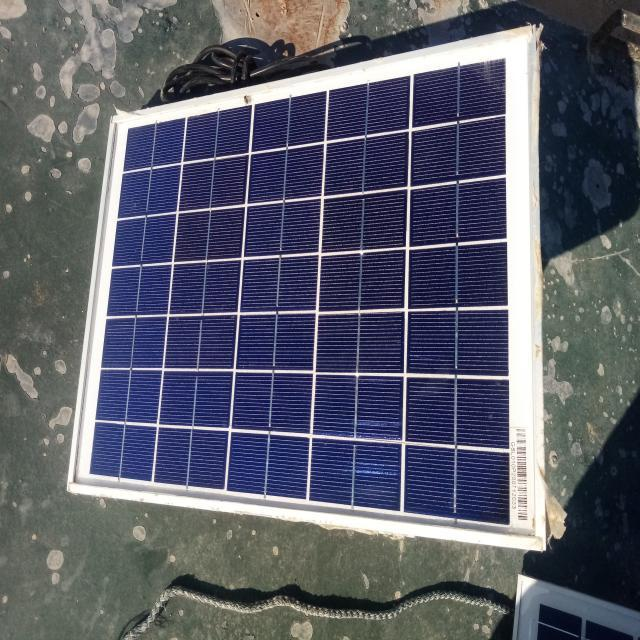no faulty: (68, 26, 542, 551)
